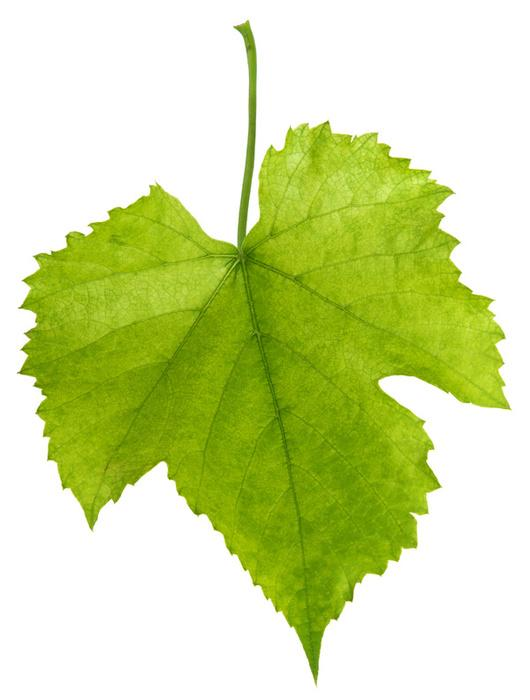grape leaf black rot: (16, 123, 513, 700)
